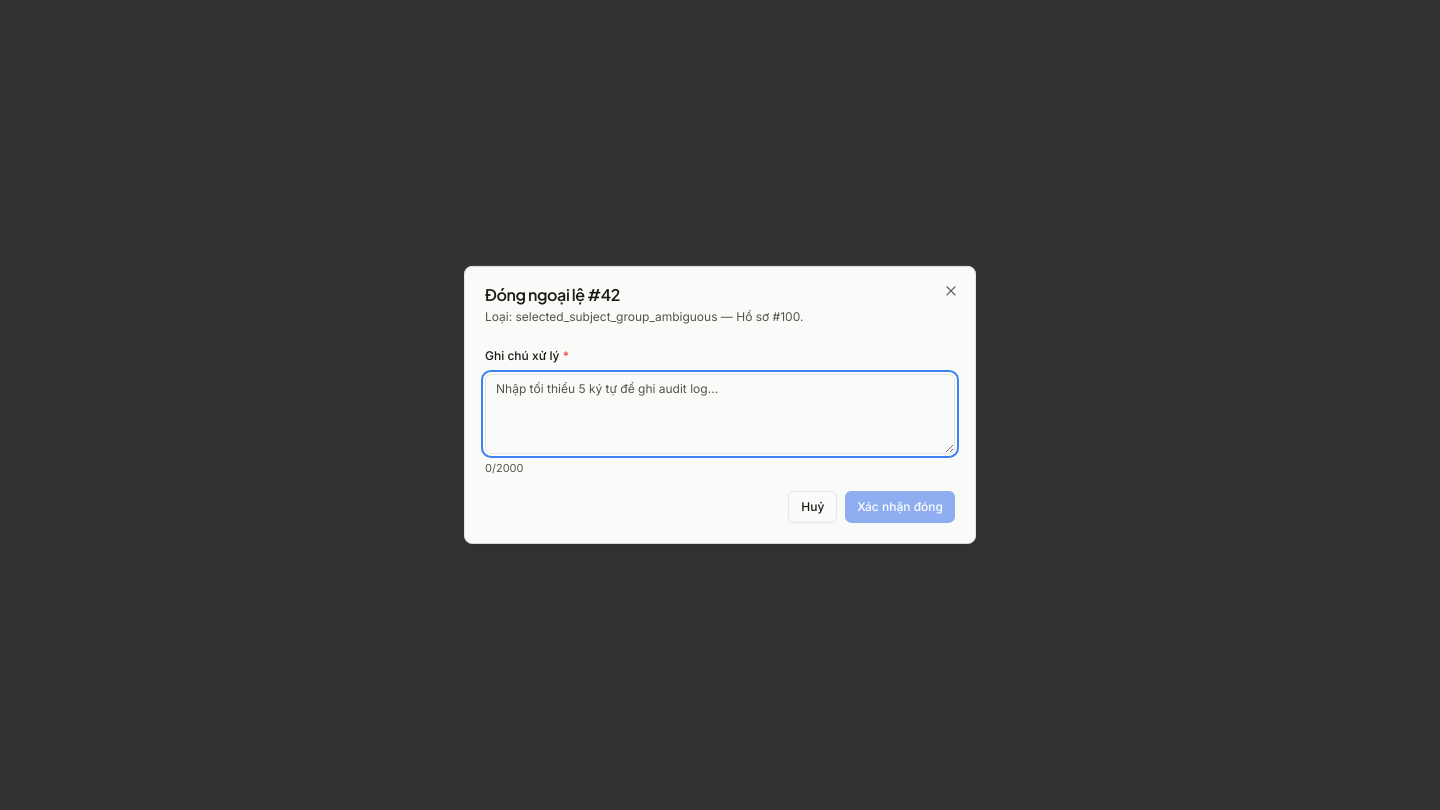
Scenario: BackfillResolveDialog › confirm disabled when reason below min 5 chars
Expected: the button with test id "backfill-resolve-confirm" is disabled, [845,491,955,523]
Step 1. Type "abc" into the text box with test id "backfill-resolve-textarea" → (720, 413), box [485,373,955,453]
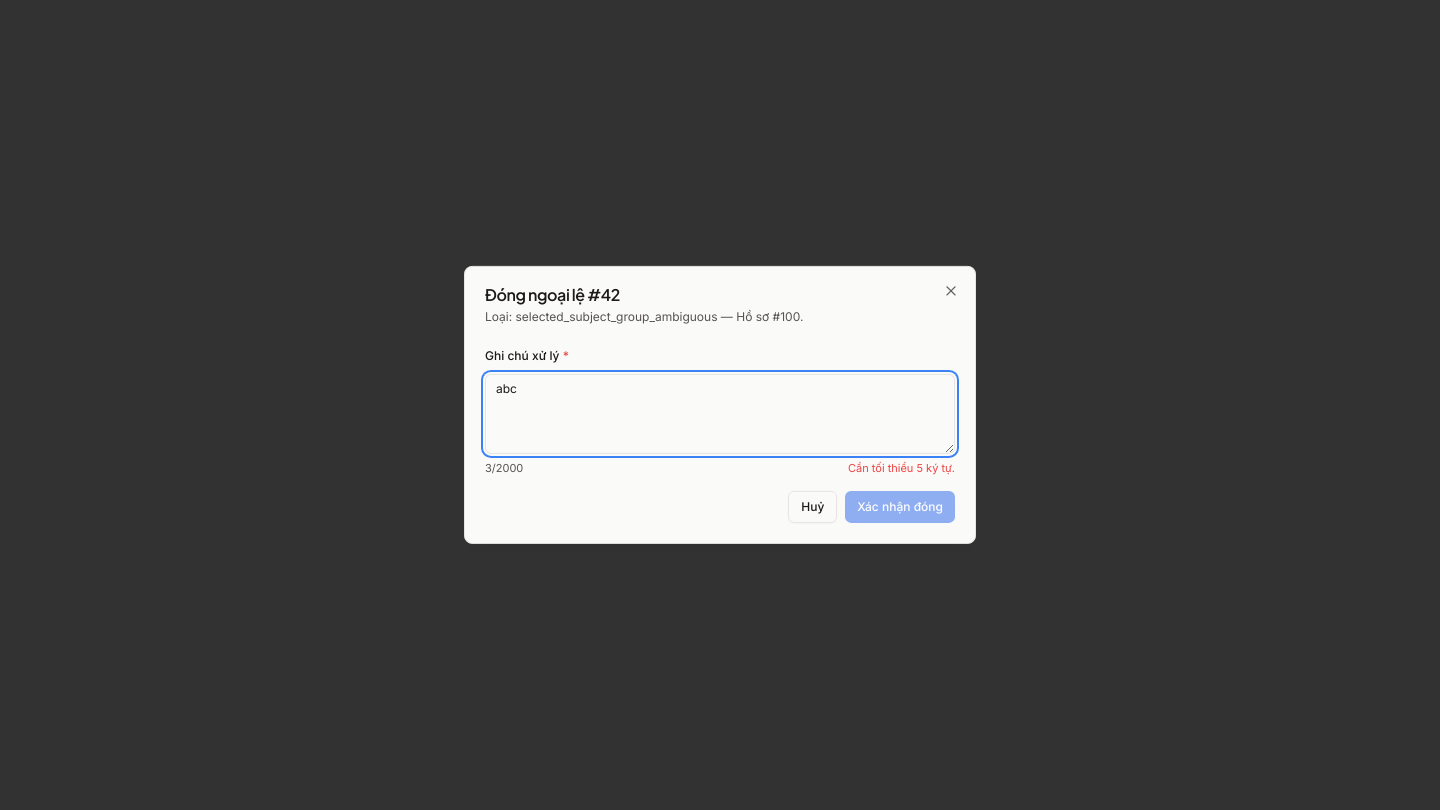
Expected: the button with test id "backfill-resolve-confirm" is disabled, [845,491,955,523]
Now the message with test id "backfill-resolve-error" shows "tối thiểu 5", box [848,461,955,475]
Step 2. Replace the text in the text box with test id "backfill-resolve-textarea" with "abcdef" → (720, 413), box [485,373,955,453]
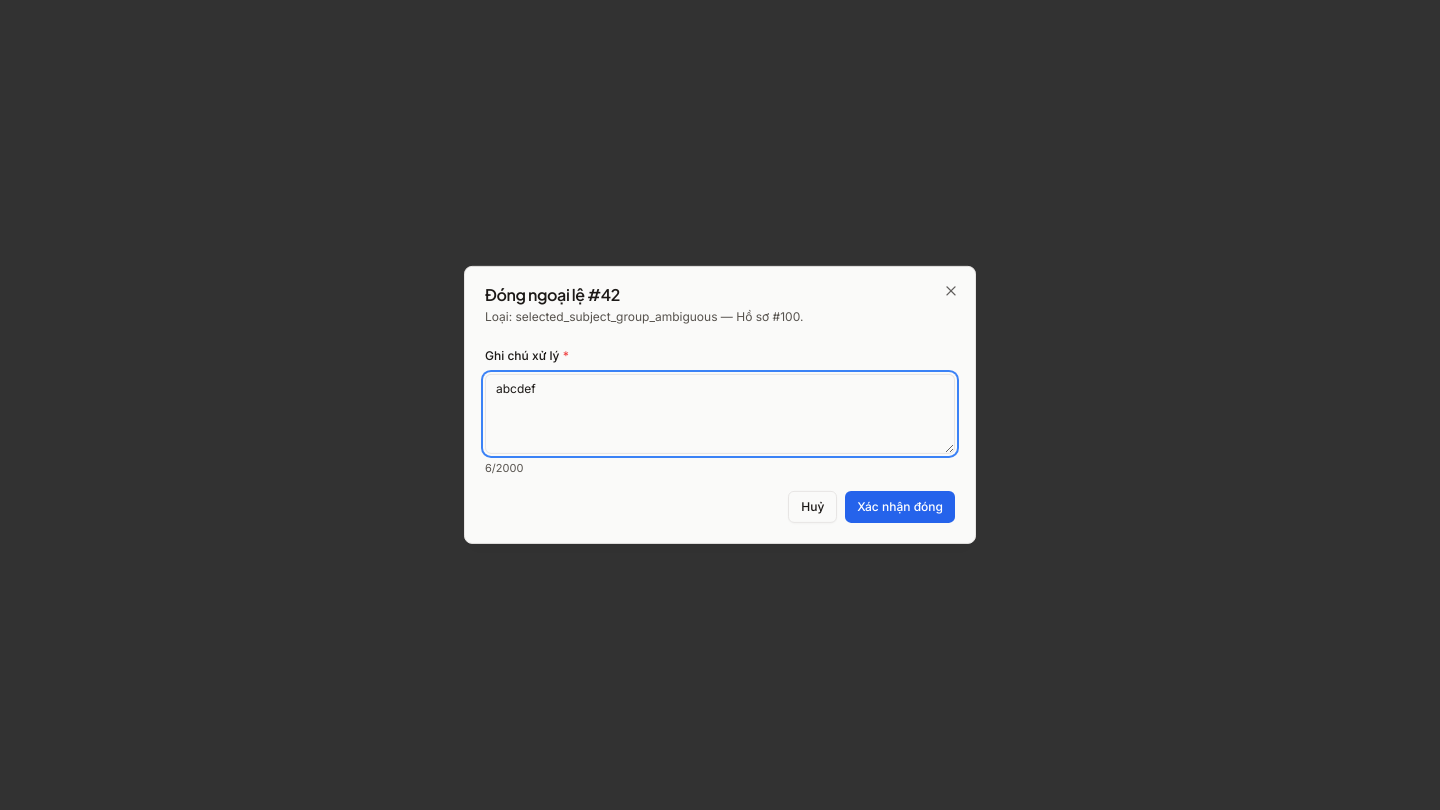
Now the button with test id "backfill-resolve-confirm" is enabled, box [845,491,955,523]
